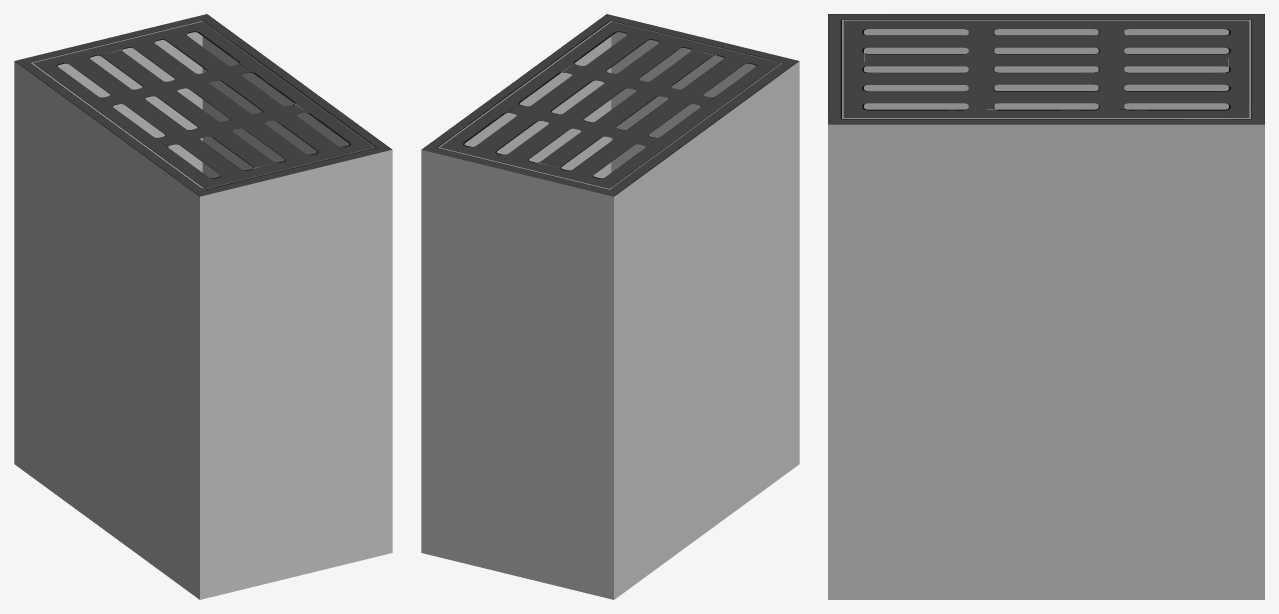
3 views of the same model, side by side, from view 1: azimuth 30°, elevation 25°; view 2: azimuth 150°, elevation 25°; view 3: azimuth 270°, elevation 25° (orthographic). The views are drawn at different scales.
Parts seen in each view (by area): view 1: Mesh_0, Mesh_2; view 2: Mesh_0, Mesh_2; view 3: Mesh_0, Mesh_2.
Boxes of the visible parts, x1,y1,x2,y2 form: Mesh_0: (14,14,392,599); Mesh_2: (33,21,373,188); Mesh_0: (421,14,799,599); Mesh_2: (440,21,780,188); Mesh_0: (828,14,1264,599); Mesh_2: (843,20,1249,117).
Size of the model in its own units: 0.3 by 0.6001 by 0.5.
3 materials, 2 textured.
